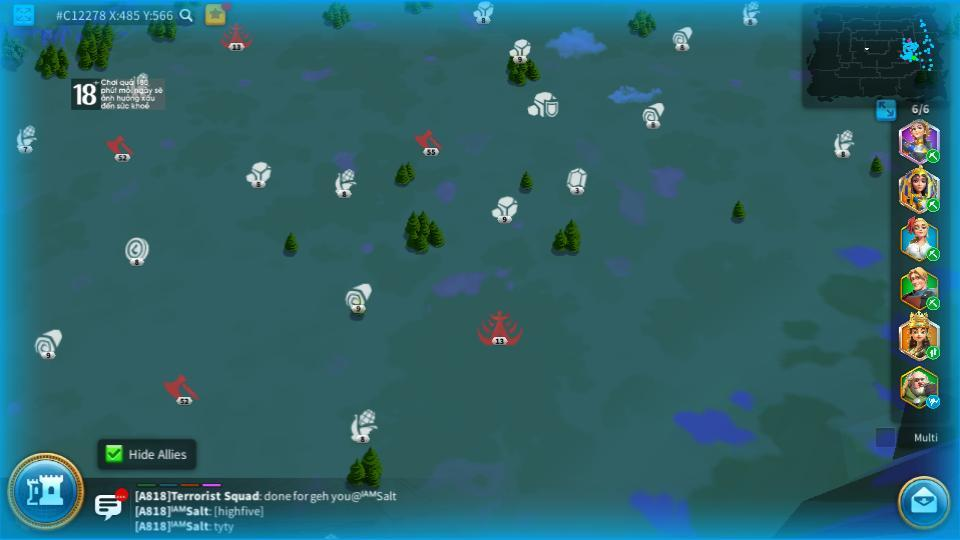gem-z-out: (564, 167, 588, 193)
march_farming: (923, 197, 940, 212), (925, 297, 941, 308), (926, 250, 940, 261)
march_idle: (925, 395, 942, 407)
march_marching: (925, 345, 941, 359), (924, 149, 939, 162)
